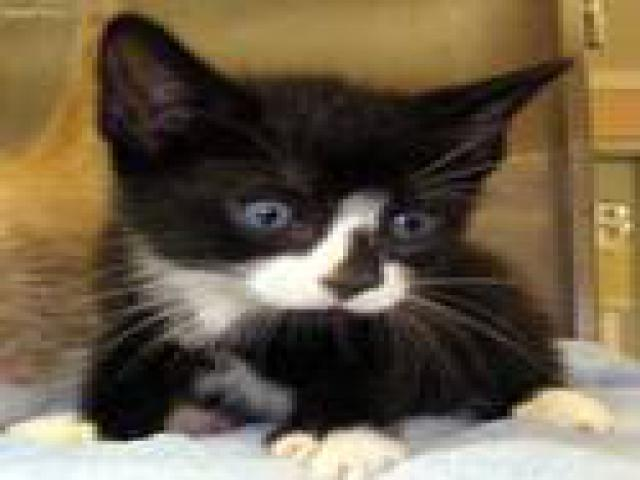cat: (58, 8, 581, 461)
